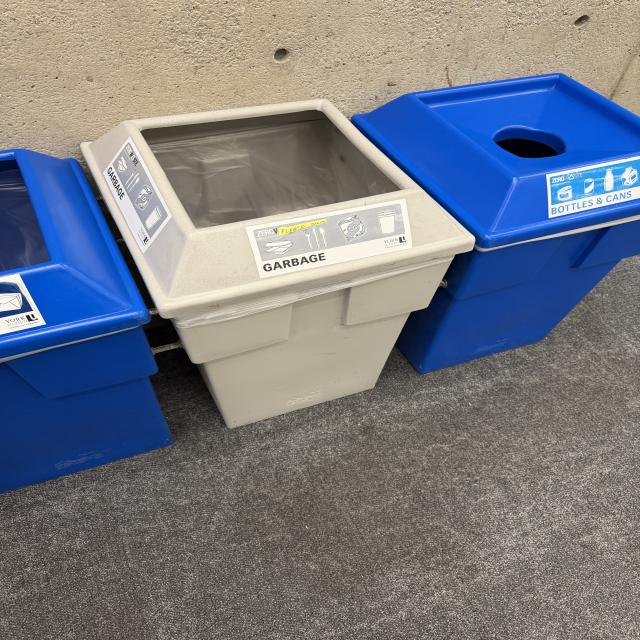Dustbin: (0, 72, 640, 493)
